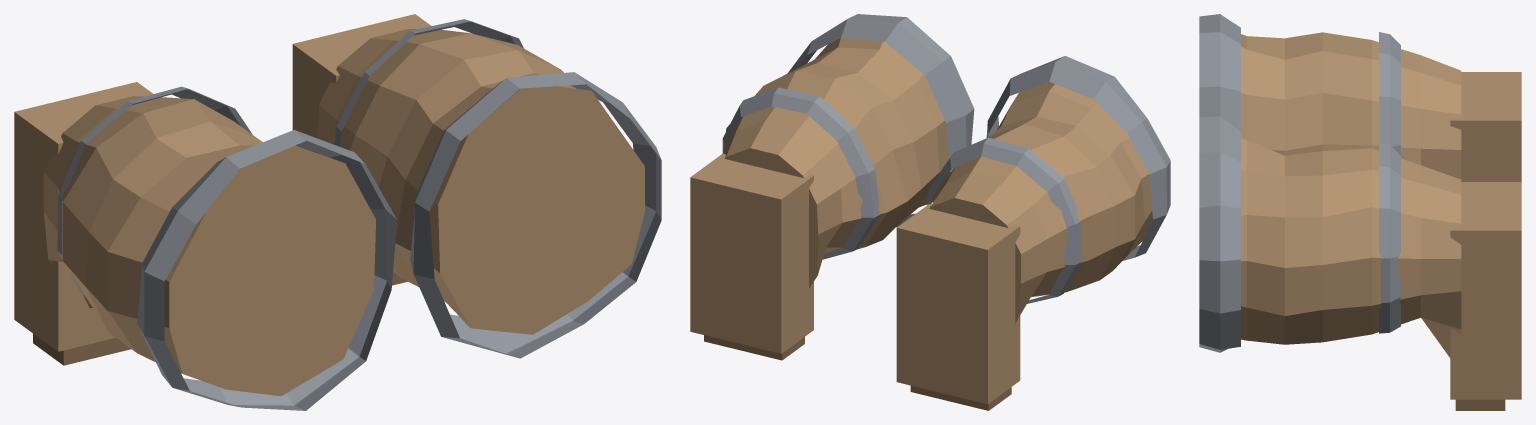
The model's file is boots_tall.glb.
3 views of the same model, side by side, from view 1: azimuth 30°, elevation 25°; view 2: azimuth 150°, elevation 25°; view 3: azimuth 270°, elevation 25° (orthographic). The views are drawn at different scales.
Visible parts, largest first — view 1: LowerLegR, LowerLegL, FootR, FootL; view 2: LowerLegL, LowerLegR, FootR, FootL; view 3: LowerLegL, LowerLegR, FootL, FootR.
Part boxes in pixels (x1,y1,x2,y2): LowerLegR: (43,86,396,410); LowerLegL: (317,19,661,358); FootR: (14,82,153,365); FootL: (292,14,431,285); LowerLegL: (722,14,974,288); LowerLegR: (927,56,1170,323); FootR: (896,204,1020,410); FootL: (690,153,813,360); LowerLegL: (1199,116,1461,357); LowerLegR: (1199,14,1461,179); FootL: (1450,182,1521,410); FootR: (1450,72,1521,181).
Size of the model in its own units: 0.876 by 0.5251 by 0.588.
